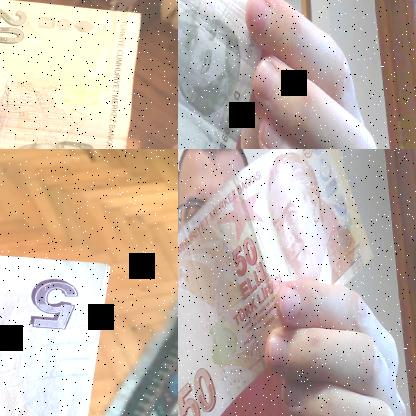5 TL: (0, 0, 148, 148)
